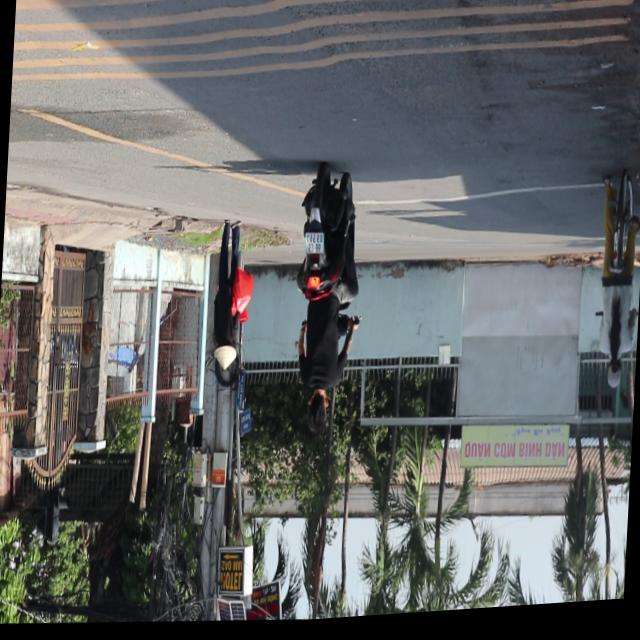licenseplate: (286, 167, 366, 447)
motorcyclist: (304, 394, 330, 441)
nohelmet: (304, 237, 324, 259)
